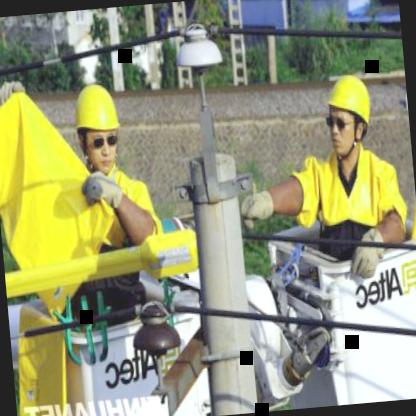helmet: (66, 74, 127, 177), (323, 69, 382, 161)
